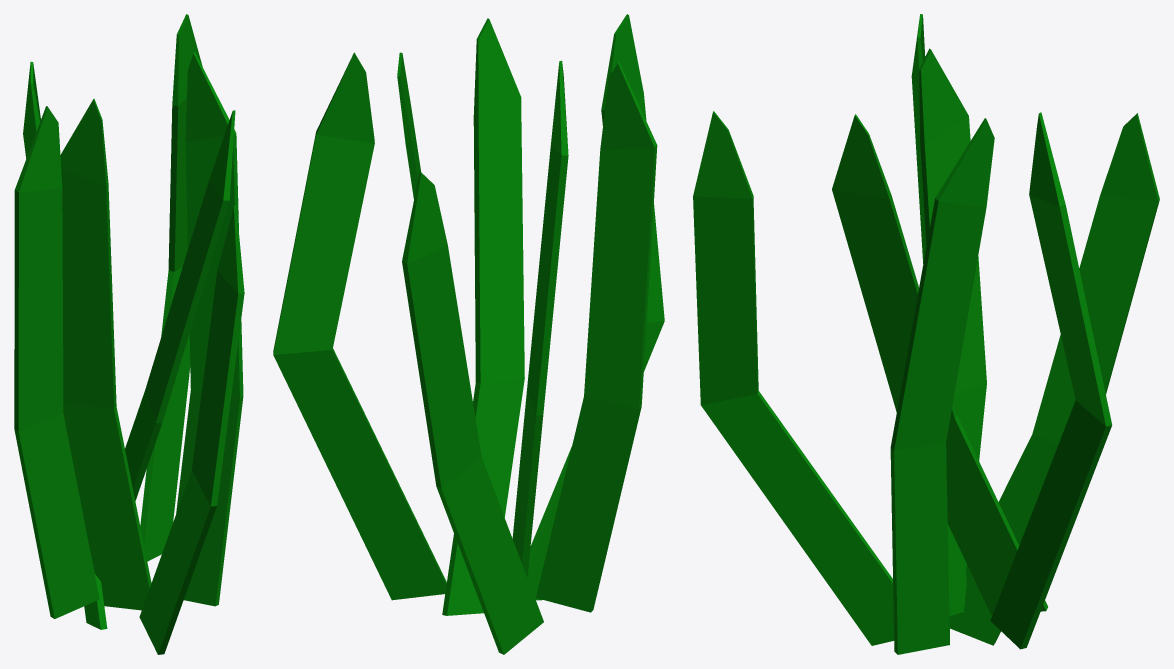
File: trawatest.fbx
3 renders of one model, left to right at view 1: azimuth 30°, elevation 25°; view 2: azimuth 150°, elevation 25°; view 3: azimuth 270°, elevation 25°, orthographic. The views are drawn at different scales.
Parts seen in each view (by area): view 1: Cube.005; view 2: Cube.005; view 3: Cube.005.
Part boxes in pixels (x1,y1,x2,y2): Cube.005: (14, 14, 244, 654); Cube.005: (273, 14, 664, 654); Cube.005: (693, 14, 1159, 654).
Size of the model in its own units: 7.31 by 14.22 by 10.14.
